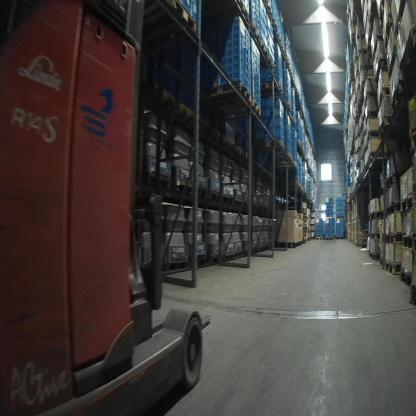forklift: (1, 2, 212, 415)
pallet: (145, 0, 196, 36), (213, 80, 251, 110), (400, 27, 416, 74), (228, 98, 261, 119), (253, 136, 285, 154), (390, 79, 404, 115), (163, 261, 188, 281), (143, 173, 169, 190), (266, 159, 298, 172), (384, 12, 393, 53), (169, 181, 195, 195), (264, 152, 293, 164), (260, 81, 284, 95), (236, 0, 250, 23), (375, 57, 387, 83), (378, 117, 390, 141), (378, 86, 390, 109), (163, 89, 178, 107), (249, 21, 261, 42), (180, 103, 195, 119), (384, 261, 401, 275), (191, 258, 208, 271), (370, 149, 388, 160), (221, 251, 236, 264), (400, 196, 412, 212), (367, 129, 380, 143), (400, 271, 411, 287), (259, 40, 268, 59), (386, 234, 403, 244), (402, 236, 416, 248), (386, 203, 400, 215), (206, 192, 220, 204), (409, 129, 416, 151), (194, 190, 209, 200), (264, 0, 273, 16), (235, 145, 246, 158), (214, 256, 225, 269), (385, 175, 395, 189), (266, 55, 275, 70), (220, 197, 234, 206), (236, 251, 246, 263), (226, 139, 236, 149), (369, 251, 380, 260), (272, 18, 279, 32), (370, 231, 380, 240), (368, 31, 372, 52), (370, 211, 379, 220), (286, 100, 291, 112), (380, 257, 385, 268), (233, 200, 242, 206), (297, 181, 303, 190), (380, 210, 384, 219), (380, 235, 385, 242), (315, 236, 323, 240), (325, 237, 333, 240), (336, 236, 344, 239)
stillage: (225, 19, 246, 37), (186, 3, 200, 22), (250, 40, 262, 59), (266, 126, 283, 139), (267, 96, 282, 110), (266, 117, 282, 129), (249, 71, 261, 87), (250, 53, 262, 67), (266, 108, 281, 118), (251, 63, 261, 76), (243, 29, 251, 44), (242, 44, 250, 58), (243, 37, 251, 50), (244, 55, 250, 69), (244, 70, 251, 80), (290, 128, 297, 138), (290, 132, 297, 141)
